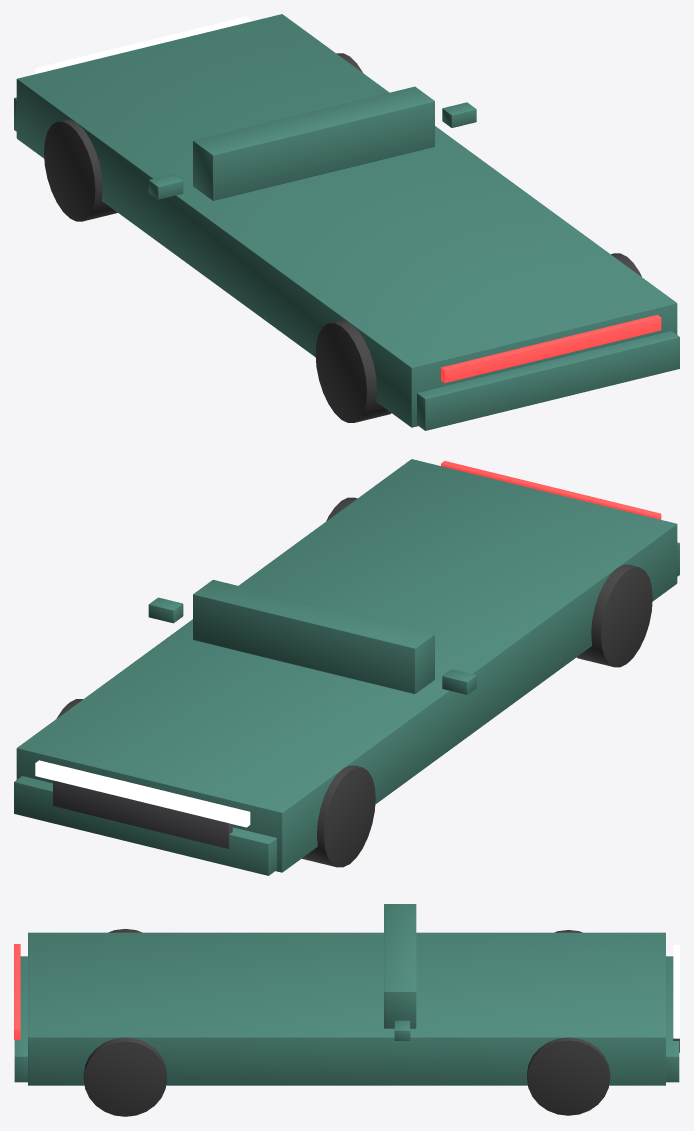
Rendered from vehicle.glb.
The picture shows the model from 3 angles, top to bottom: view 1: azimuth 30°, elevation 25°; view 2: azimuth 150°, elevation 25°; view 3: azimuth 270°, elevation 25°; orthographic projection. The views are drawn at different scales.
Visible parts, largest first — view 1: BODY_Main, BODY_Roof, BODY_Bumpers_Rear, WHEEL_RR_Tire, WHEEL_FR_Tire, LIGHT_Taillights, LIGHT_Headlights, BODY_Mirror_R, BODY_Mirror_L; view 2: BODY_Main, BODY_Roof, BODY_Bumpers_Front, WHEEL_RR_Tire, WHEEL_FR_Tire, BODY_Grille, LIGHT_Headlights, LIGHT_Taillights, BODY_Mirror_L, BODY_Mirror_R; view 3: BODY_Main, WHEEL_RL_Tire, WHEEL_FL_Tire, BODY_Roof, BODY_Bumpers_Rear, BODY_Bumpers_Front, LIGHT_Taillights, LIGHT_Headlights, BODY_Mirror_L.
Boxes of the visible parts, <box> form: BODY_Main: <box>16,14,677,427</box>; BODY_Roof: <box>193,86,434,200</box>; BODY_Bumpers_Rear: <box>417,331,679,430</box>; WHEEL_RR_Tire: <box>315,320,391,422</box>; WHEEL_FR_Tire: <box>44,119,117,221</box>; LIGHT_Taillights: <box>441,314,661,382</box>; LIGHT_Headlights: <box>35,16,250,73</box>; BODY_Mirror_R: <box>148,174,183,199</box>; BODY_Mirror_L: <box>442,102,476,127</box>; BODY_Main: <box>16,459,677,872</box>; BODY_Roof: <box>193,579,434,693</box>; BODY_Bumpers_Front: <box>14,776,276,875</box>; WHEEL_RR_Tire: <box>577,564,652,667</box>; WHEEL_FR_Tire: <box>302,765,375,867</box>; BODY_Grille: <box>53,780,232,848</box>; LIGHT_Headlights: <box>35,760,250,827</box>; LIGHT_Taillights: <box>441,461,661,519</box>; BODY_Mirror_L: <box>148,597,183,623</box>; BODY_Mirror_R: <box>442,669,476,694</box>; BODY_Main: <box>28,932,665,1085</box>; WHEEL_RL_Tire: <box>83,1037,166,1116</box>; WHEEL_FL_Tire: <box>527,1037,610,1115</box>; BODY_Roof: <box>384,904,416,1028</box>; BODY_Bumpers_Rear: <box>14,956,27,1082</box>; BODY_Bumpers_Front: <box>666,956,679,1082</box>; LIGHT_Taillights: <box>14,944,20,1039</box>; LIGHT_Headlights: <box>673,945,679,1038</box>; BODY_Mirror_L: <box>394,1020,410,1040</box>.
Bounding box in the file's own units: 2.28 × 0.9552 × 5.11.
